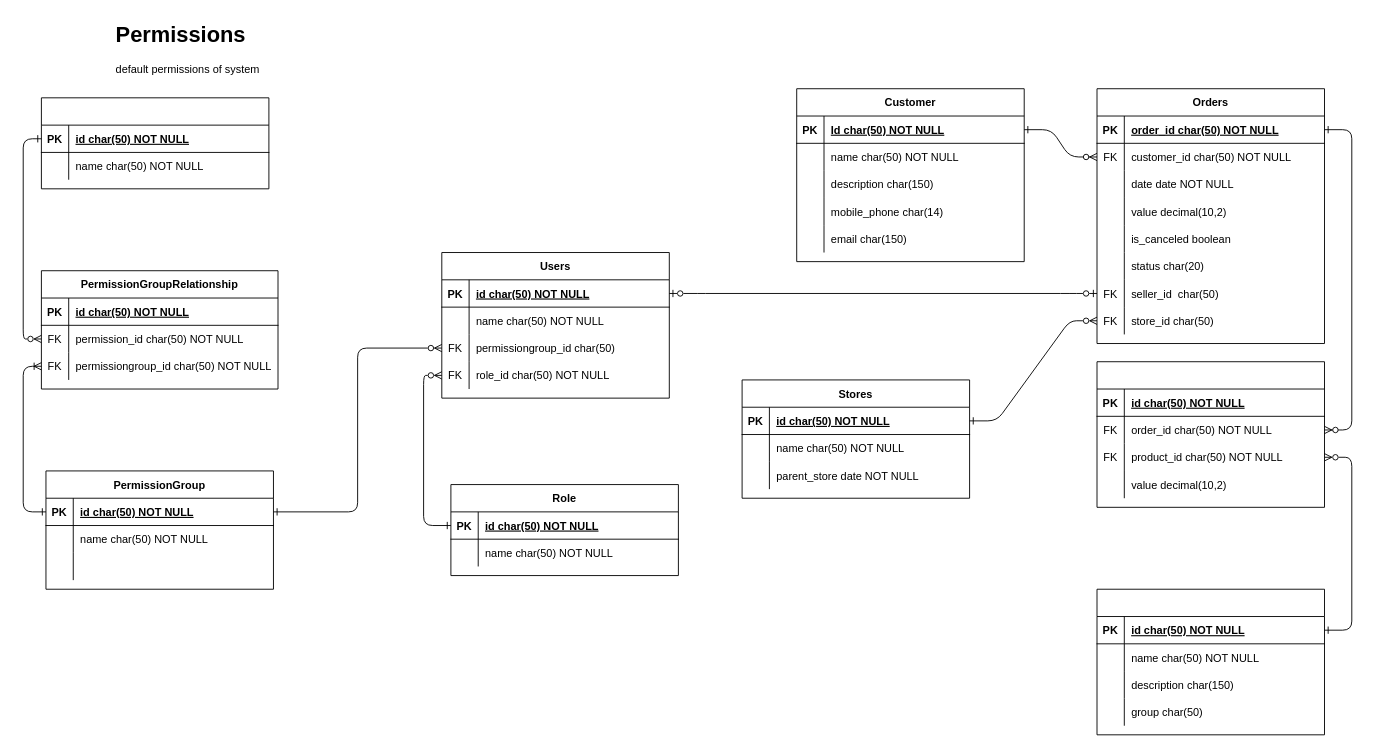
Some shapes in this 1376 by 751 pixel diagram are drawn without their labels. Each missing label, with the box of its shape:
OrderItem: (1096, 361, 1325, 507)
Permission: (40, 97, 269, 189)
Product: (1096, 588, 1325, 735)
